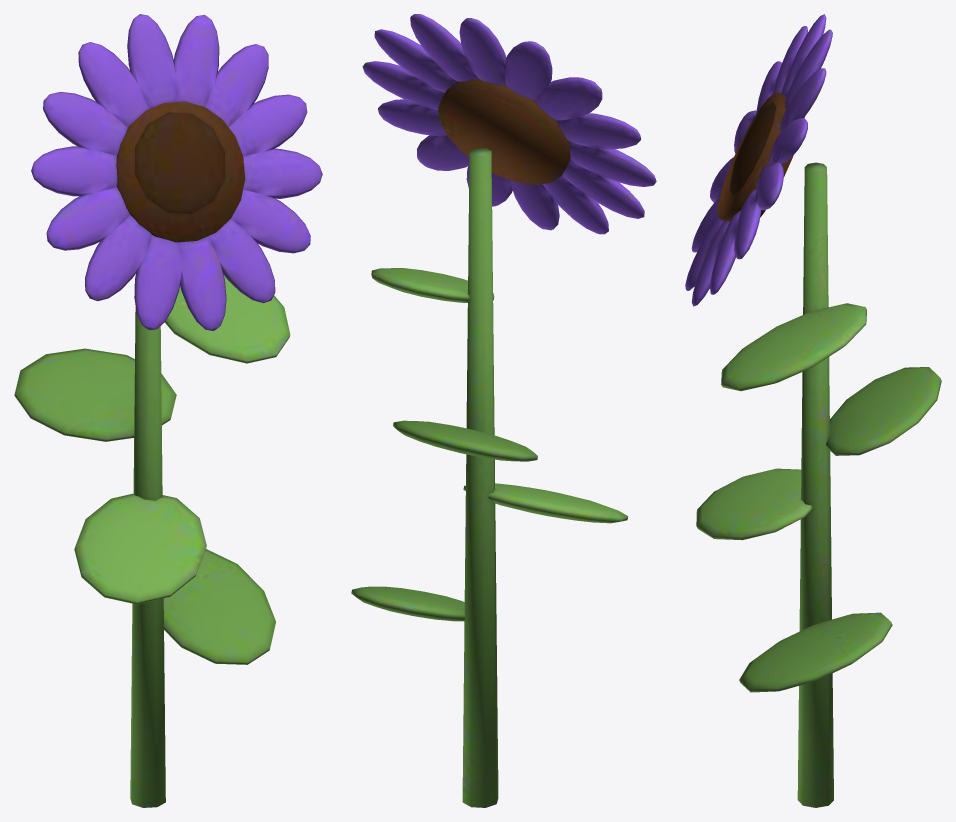
File: crop_saffron.glb
The picture shows the model from 3 angles, left to right: view 1: azimuth 30°, elevation 25°; view 2: azimuth 150°, elevation 25°; view 3: azimuth 270°, elevation 25°; orthographic projection. The views are drawn at different scales.
Visible parts, largest first — view 1: crop_saffron, fruit; view 2: crop_saffron, fruit; view 3: crop_saffron, fruit.
Boxes of the visible parts, <box> form: crop_saffron: <box>14,101,290,807</box>; fruit: <box>31,14,322,331</box>; crop_saffron: <box>351,79,628,807</box>; fruit: <box>362,14,656,234</box>; crop_saffron: <box>696,92,941,807</box>; fruit: <box>685,14,832,306</box>.
Bounding box in the file's own units: 0.2242 × 0.6079 × 0.1837.
1 material, 1 textured.
